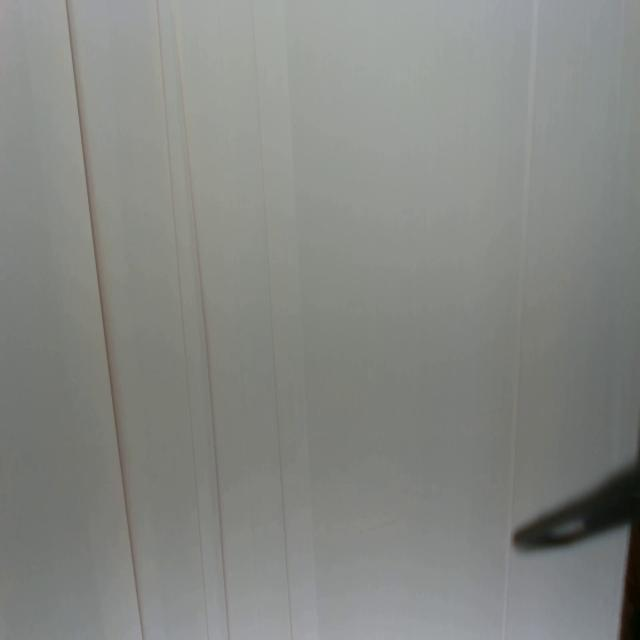crease: (66, 0, 144, 640), (170, 0, 230, 639), (155, 0, 212, 640), (252, 0, 294, 640), (510, 0, 540, 501), (501, 509, 513, 634)
